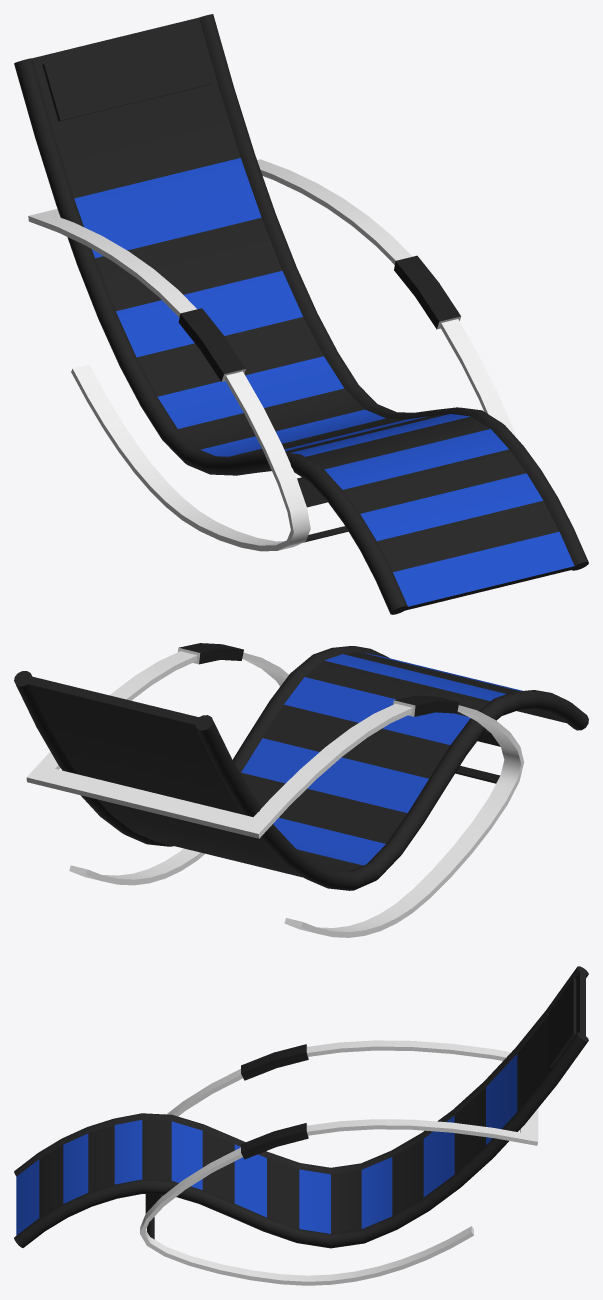
The model's file is Reposera_A.fbx.
3 views of the same model, one above another, from view 1: azimuth 30°, elevation 25°; view 2: azimuth 150°, elevation 25°; view 3: azimuth 270°, elevation 25° (orthographic). The views are drawn at different scales.
Parts seen in each view (by area): view 1: Reposera_A; view 2: Reposera_A; view 3: Reposera_A.
Boxes of the visible parts, left/top/right/bottom form: Reposera_A: left=14, top=14, right=588, bottom=614; Reposera_A: left=14, top=643, right=588, bottom=937; Reposera_A: left=14, top=966, right=588, bottom=1285.
Bounding box in the file's own units: 1.87 × 2.43 × 5.22.
